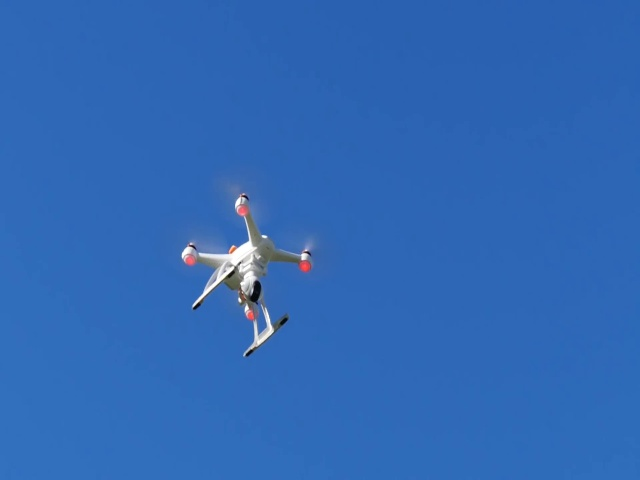drone: (169, 177, 327, 361)
